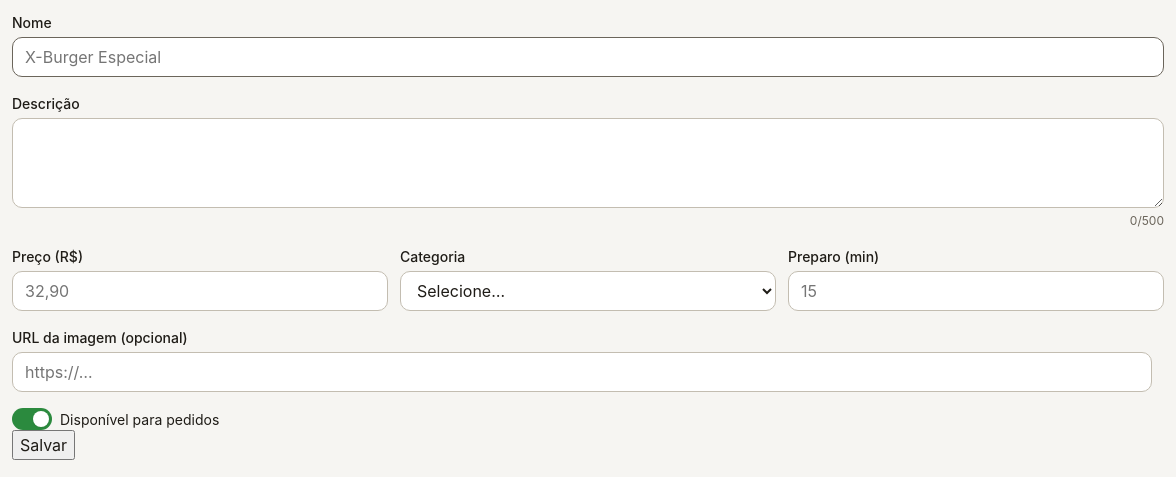
Scenario: ProductForm › mostra o contador da descrição
Type "Pão e queijo" into the text box labelled "Descrição" at (588, 163), box x1=12 y1=118 x2=1164 y2=208
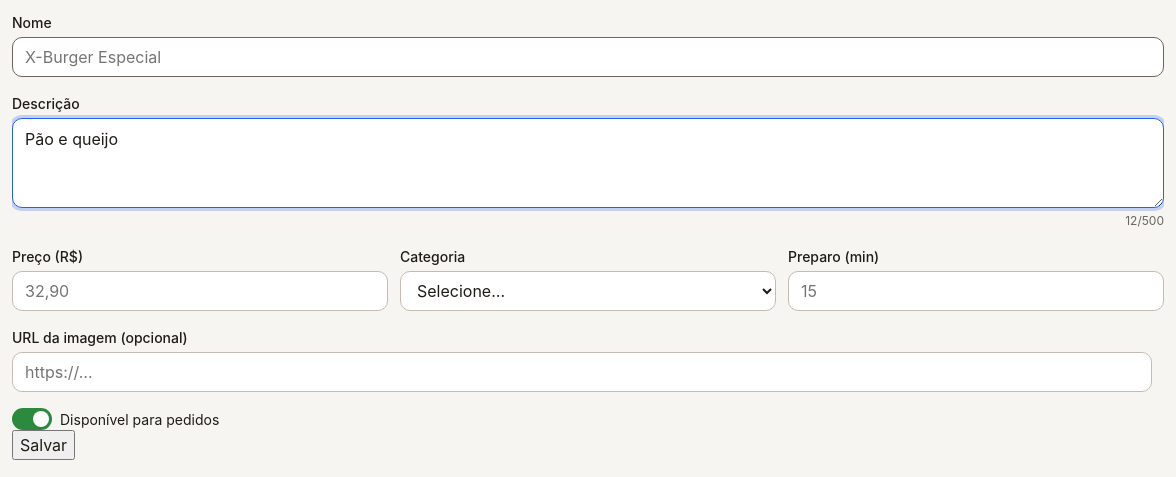
Expected: the text "12/500" is shown, x1=1125 y1=212 x2=1164 y2=230
